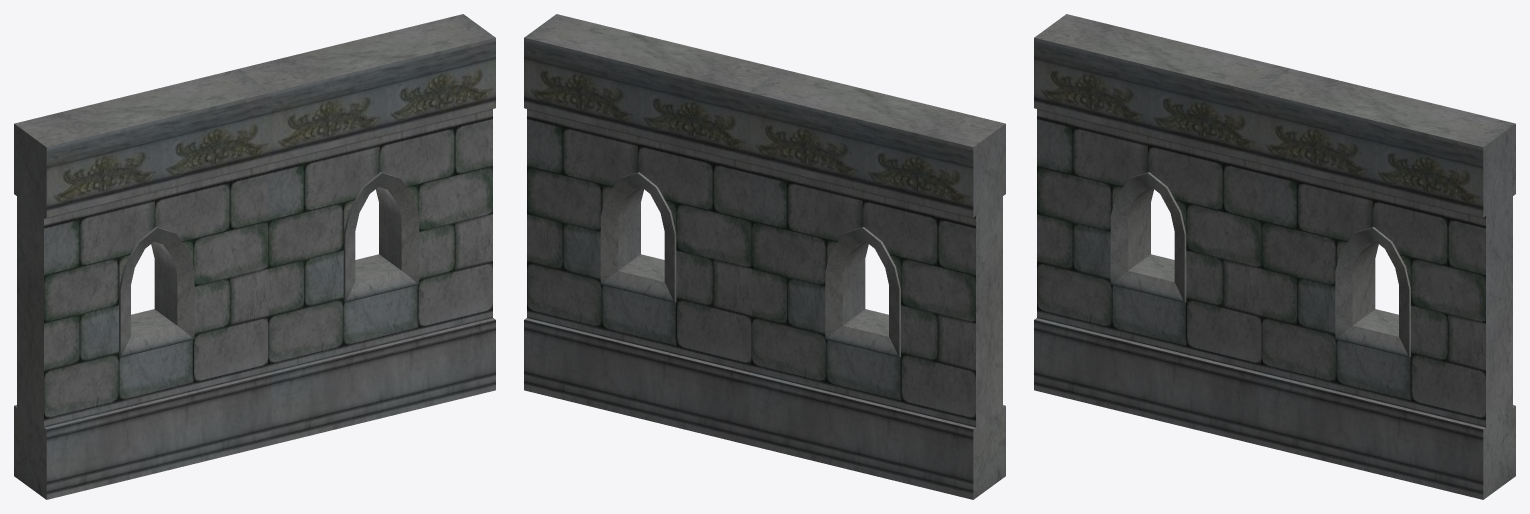
File: wall_large_03.glb
3 renders of one model, left to right at view 1: azimuth 30°, elevation 25°; view 2: azimuth 150°, elevation 25°; view 3: azimuth 330°, elevation 25°, orthographic.
Visible parts, largest first — view 1: wall_large_03; view 2: wall_large_03; view 3: wall_large_03.
Boxes of the visible parts, x1,y1,x2,y2 form: wall_large_03: (14, 14, 495, 499); wall_large_03: (524, 14, 1005, 499); wall_large_03: (1034, 14, 1515, 499).
Size of the model in its own units: 4 by 3 by 0.5.
1 material, 1 textured.
